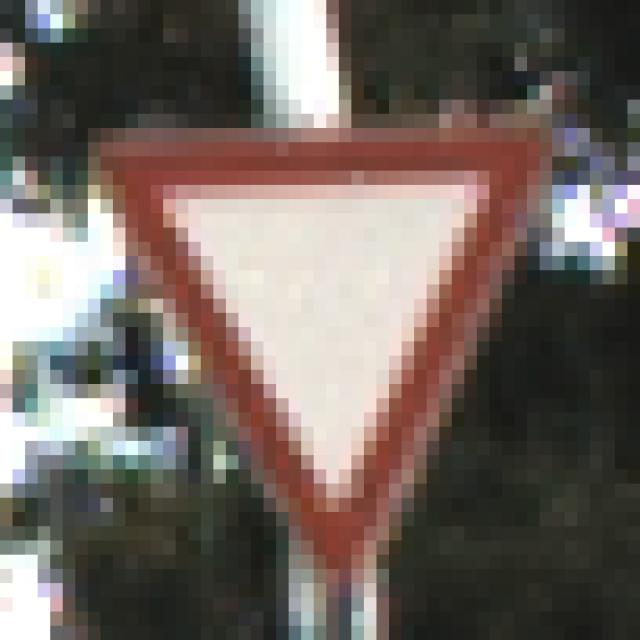Give Way: (64, 86, 566, 570)
